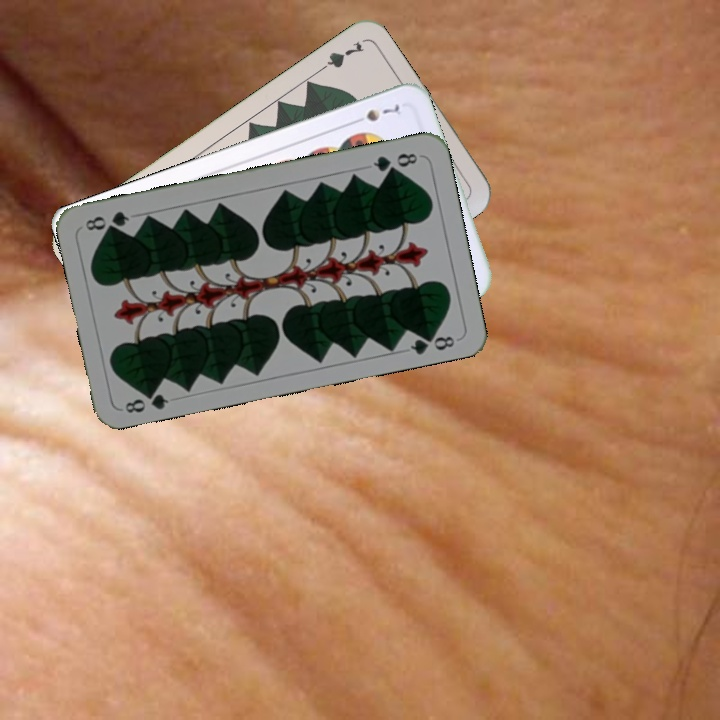G7: (312, 37, 367, 77)
G8: (121, 384, 172, 416), (369, 149, 420, 175)
S7: (348, 100, 402, 127)
